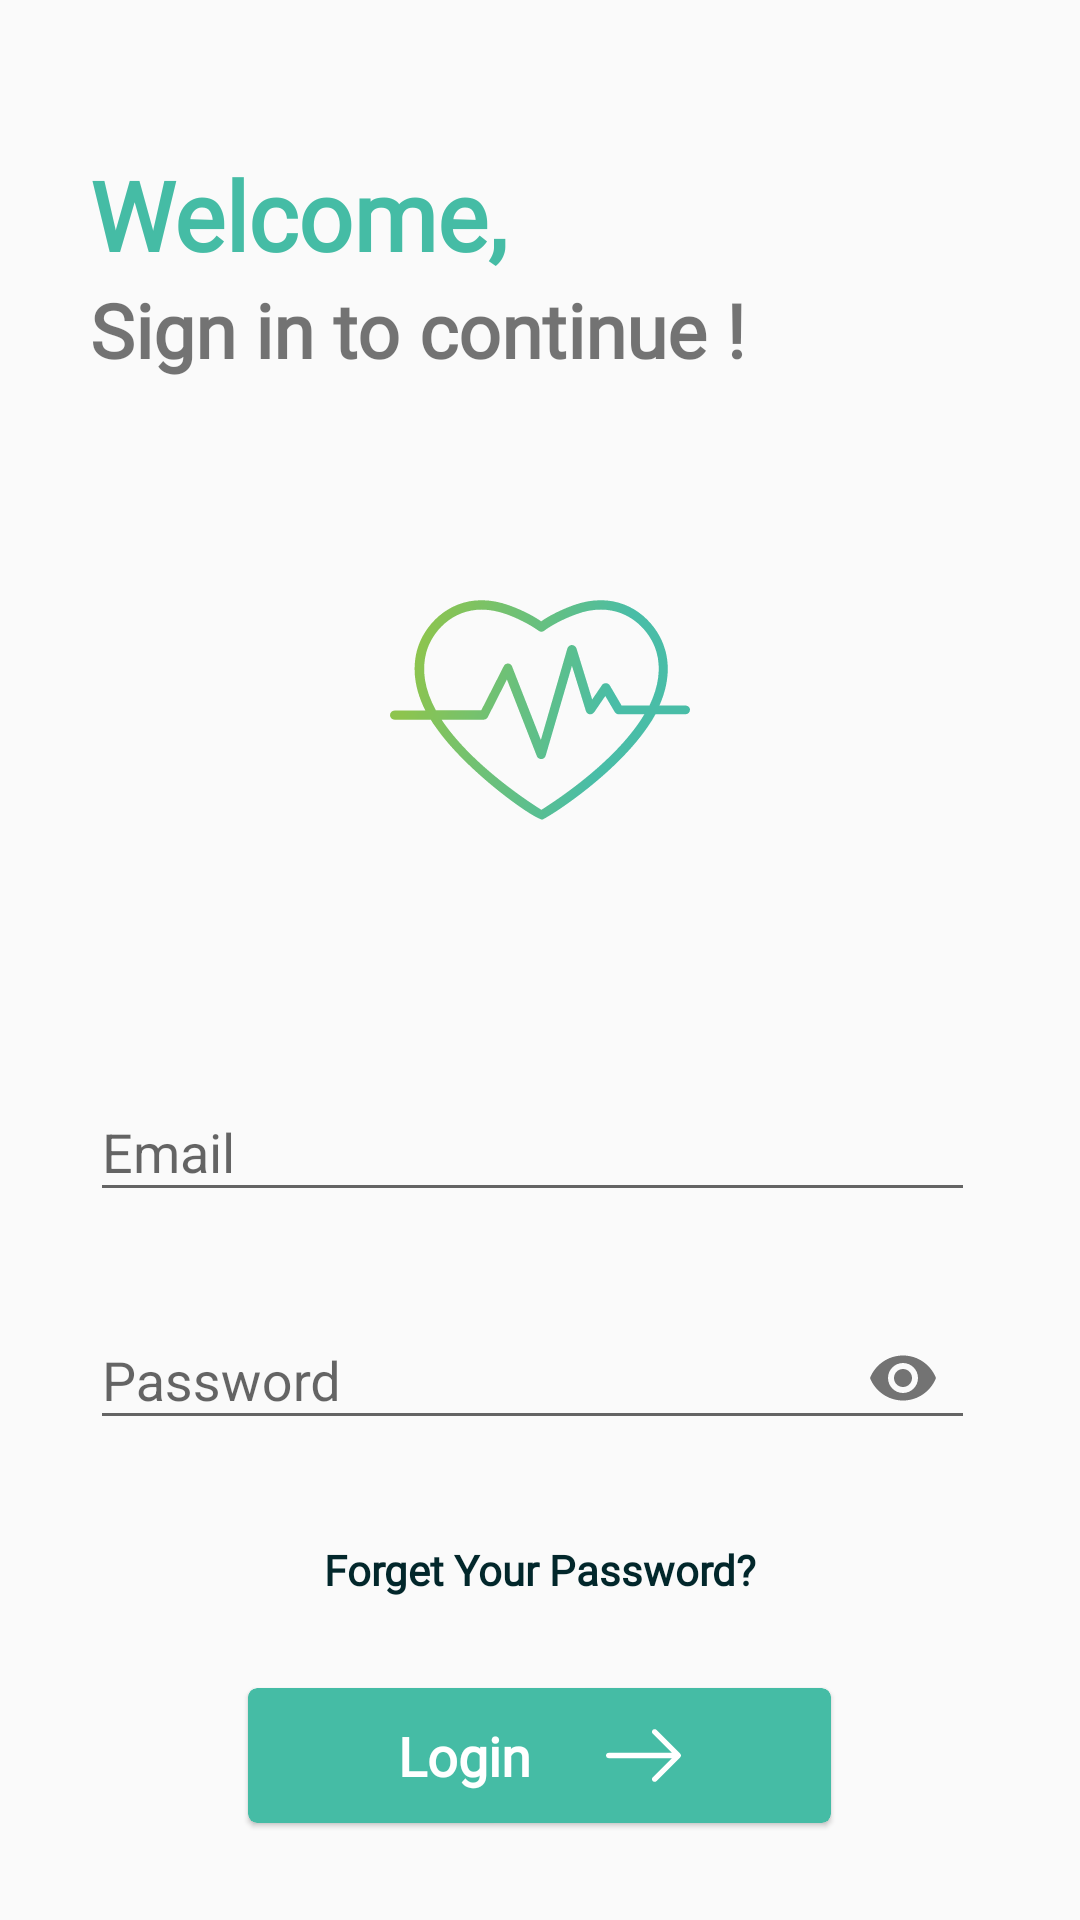

Icons on this 1080 x 1920 Android screen, each with its box as (x1, y1, x2, y2):
next: (606, 1729, 681, 1782)
